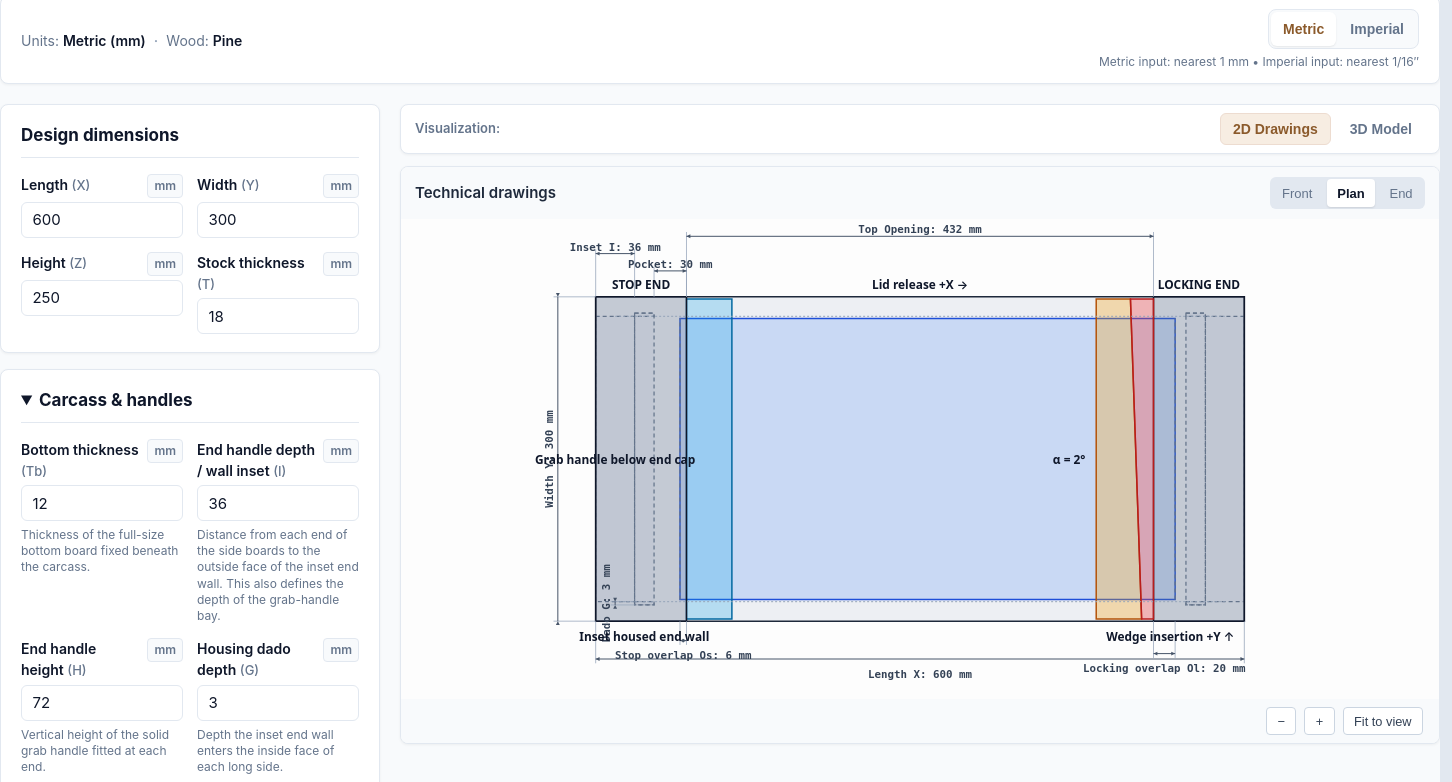
Scenario: DesignEditor Component › switches to imperial mode and reformats fields to woodworking fractions without altering physical geometry
Click the radio button labelled "Imperial" at (1377, 29), box [1338,12,1416,46]
(page scrolled)
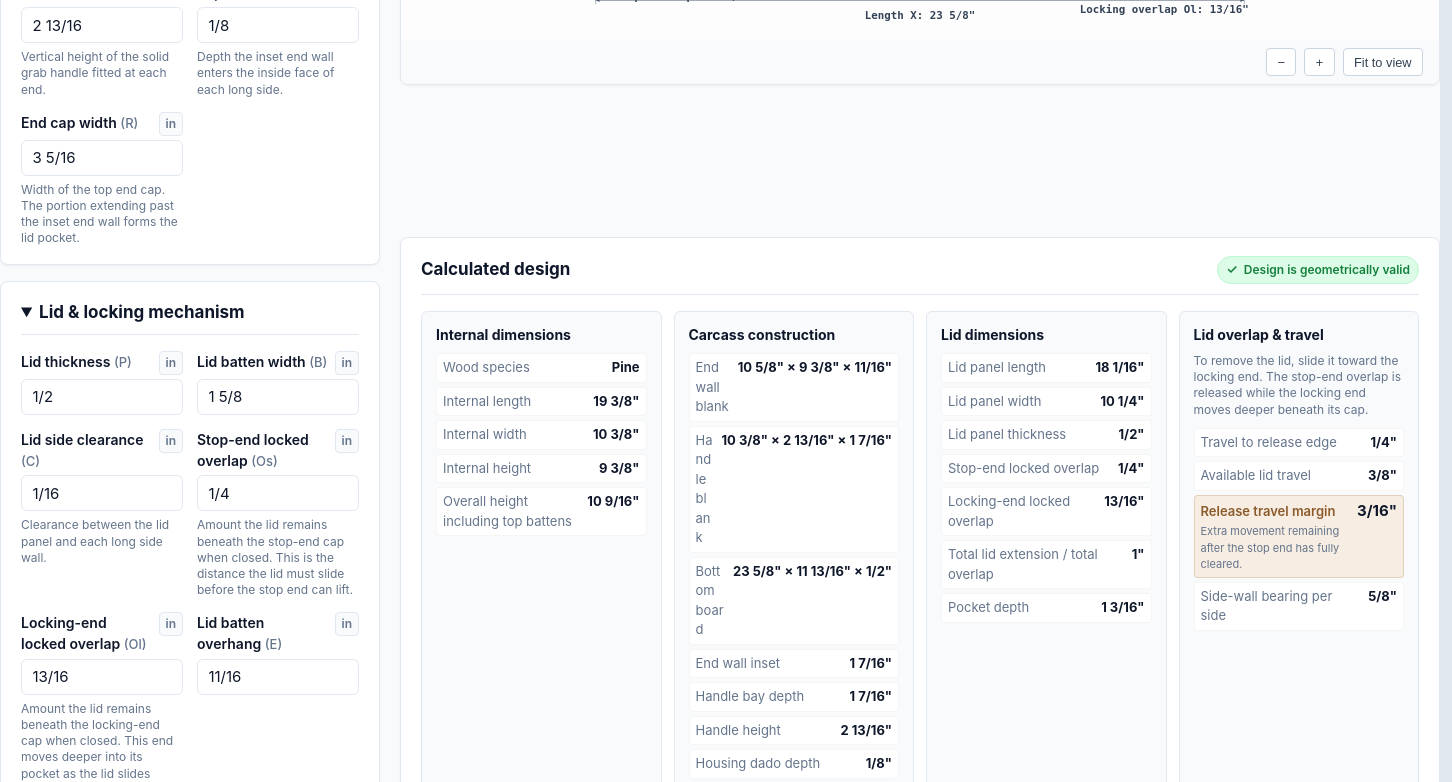
Expected: the text "Design is geometrically valid" is shown, [1244,261,1410,279]
Expected: the text "19 3/8\"" is shown, [593,392,640,411]
